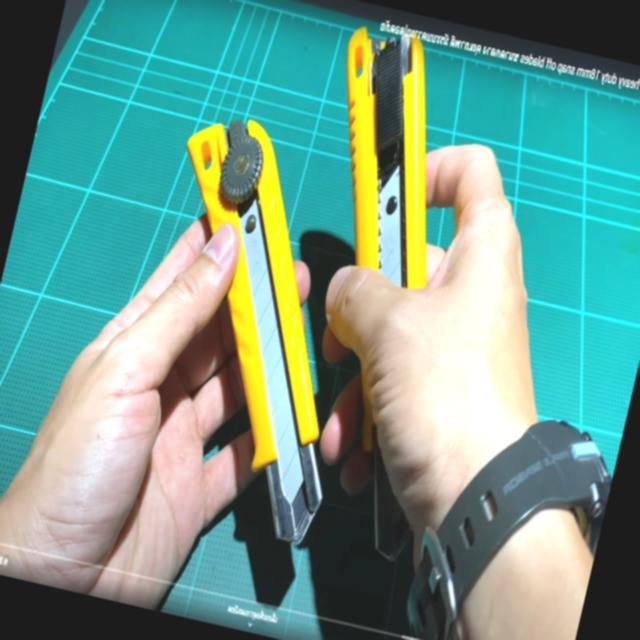cutter: (7, 0, 491, 610)
